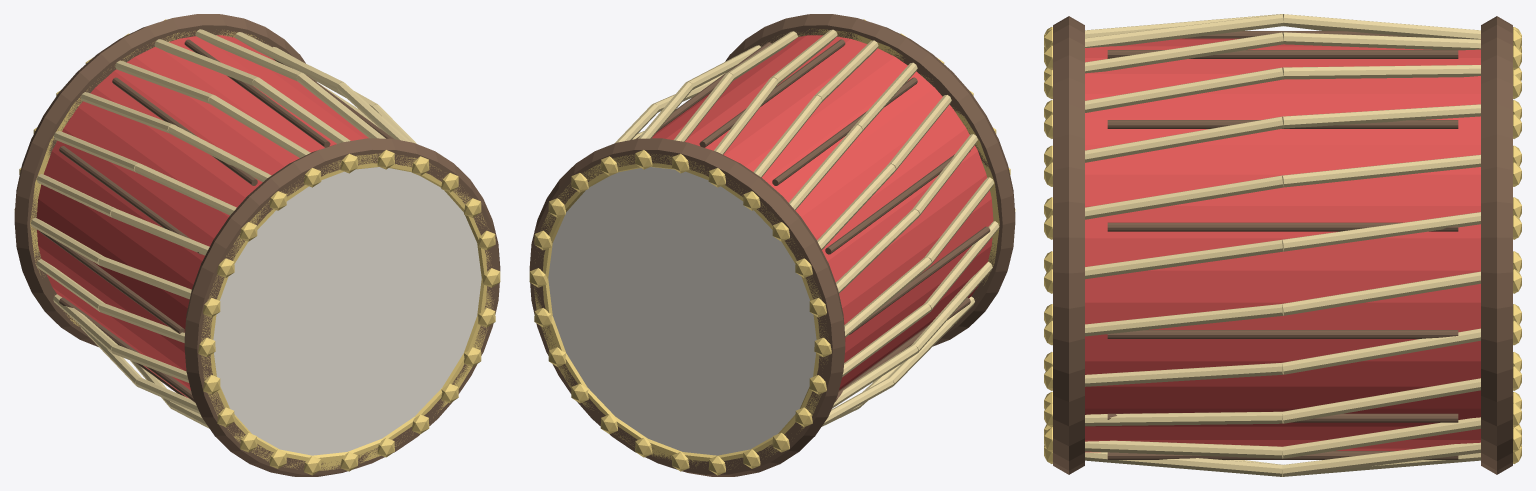
The model's file is noh_otsuzumi.glb.
3 renders of one model, left to right at view 1: azimuth 30°, elevation 25°; view 2: azimuth 150°, elevation 25°; view 3: azimuth 270°, elevation 25°, orthographic. The views are drawn at different scales.
Parts seen in each view (by area): view 1: Tsuzumi hourglass multi-strand hand drum taut drum skin, Tsuzumi hourglass multi-strand hand drum hardwood shell, Tsuzumi hourglass multi-strand hand drum leather head rim, Tsuzumi hourglass multi-strand hand drum tightening rope_00. (×11), Tsuzumi hourglass multi-strand hand drum leather head rim.00, Tsuzumi hourglass multi-strand hand drum tightening rope_01. (×11), Tsuzumi lashing flange, Tsuzumi lashing flange.001, Tsuzumi hourglass multi-strand hand drum wood grain.006, Tsuzumi hourglass multi-strand hand drum wood grain.005, Tsuzumi hourglass multi-strand hand drum wood grain.003, Tsuzumi hourglass multi-strand hand drum wood grain.004 (+1 smaller); view 2: Tsuzumi hourglass multi-strand hand drum taut drum skin.001, Tsuzumi hourglass multi-strand hand drum hardwood shell, Tsuzumi hourglass multi-strand hand drum leather head rim.00, Tsuzumi hourglass multi-strand hand drum tightening rope_01. (×12), Tsuzumi hourglass multi-strand hand drum tightening rope_00. (×11), Tsuzumi hourglass multi-strand hand drum leather head rim, Tsuzumi lashing flange.001, Tsuzumi lashing flange, Tsuzumi hourglass multi-strand hand drum wood grain.005, Tsuzumi hourglass multi-strand hand drum wood grain.003, Tsuzumi hourglass multi-strand hand drum wood grain.006, Tsuzumi hourglass multi-strand hand drum wood grain.004 (+2 smaller); view 3: Tsuzumi hourglass multi-strand hand drum hardwood shell, Tsuzumi hourglass multi-strand hand drum tightening rope_01. (×11), Tsuzumi hourglass multi-strand hand drum tightening rope_00. (×11), Tsuzumi hourglass multi-strand hand drum leather head rim, Tsuzumi hourglass multi-strand hand drum leather head rim.00, Tsuzumi hourglass multi-strand hand drum wood grain, Tsuzumi hourglass multi-strand hand drum wood grain.001, Tsuzumi hourglass multi-strand hand drum tightening rope_01, Tsuzumi hourglass multi-strand hand drum tightening rope_00, Tsuzumi hourglass multi-strand hand drum wood grain.003, Tsuzumi hourglass multi-strand hand drum wood grain.002, Tsuzumi hourglass multi-strand hand drum wood grain.011 (+2 smaller).
Boxes of the visible parts, bbox=[...] form: Tsuzumi hourglass multi-strand hand drum taut drum skin: bbox=[213, 167, 481, 455]; Tsuzumi hourglass multi-strand hand drum hardwood shell: bbox=[36, 35, 368, 398]; Tsuzumi hourglass multi-strand hand drum leather head rim: bbox=[184, 138, 500, 476]; Tsuzumi hourglass multi-strand hand drum tightening rope_00. (×11): bbox=[98, 73, 409, 413]; Tsuzumi hourglass multi-strand hand drum leather head rim.00: bbox=[14, 14, 316, 346]; Tsuzumi hourglass multi-strand hand drum tightening rope_01. (×11): bbox=[30, 29, 343, 385]; Tsuzumi lashing flange: bbox=[201, 153, 494, 470]; Tsuzumi lashing flange.001: bbox=[30, 30, 268, 326]; Tsuzumi hourglass multi-strand hand drum wood grain.006: bbox=[39, 231, 184, 333]; Tsuzumi hourglass multi-strand hand drum wood grain.005: bbox=[59, 146, 201, 254]; Tsuzumi hourglass multi-strand hand drum wood grain.003: bbox=[184, 39, 330, 147]; Tsuzumi hourglass multi-strand hand drum wood grain.004: bbox=[112, 77, 257, 185]; Tsuzumi hourglass multi-strand hand drum taut drum skin.001: bbox=[548, 167, 816, 455]; Tsuzumi hourglass multi-strand hand drum hardwood shell: bbox=[652, 35, 993, 390]; Tsuzumi hourglass multi-strand hand drum leather head rim.00: bbox=[529, 138, 845, 476]; Tsuzumi hourglass multi-strand hand drum tightening rope_01. (×12): bbox=[615, 73, 931, 426]; Tsuzumi hourglass multi-strand hand drum tightening rope_00. (×11): bbox=[686, 29, 999, 385]; Tsuzumi hourglass multi-strand hand drum leather head rim: bbox=[725, 14, 1015, 346]; Tsuzumi lashing flange.001: bbox=[534, 153, 828, 469]; Tsuzumi lashing flange: bbox=[761, 28, 999, 323]; Tsuzumi hourglass multi-strand hand drum wood grain.005: bbox=[825, 150, 970, 254]; Tsuzumi hourglass multi-strand hand drum wood grain.003: bbox=[699, 39, 845, 147]; Tsuzumi hourglass multi-strand hand drum wood grain.006: bbox=[849, 226, 990, 334]; Tsuzumi hourglass multi-strand hand drum wood grain.004: bbox=[772, 77, 917, 185]; Tsuzumi hourglass multi-strand hand drum hardwood shell: bbox=[1085, 38, 1480, 452]; Tsuzumi hourglass multi-strand hand drum tightening rope_01. (×11): bbox=[1282, 14, 1480, 476]; Tsuzumi hourglass multi-strand hand drum tightening rope_00. (×11): bbox=[1085, 14, 1283, 476]; Tsuzumi hourglass multi-strand hand drum leather head rim: bbox=[1053, 16, 1084, 474]; Tsuzumi hourglass multi-strand hand drum leather head rim.00: bbox=[1481, 16, 1512, 474]; Tsuzumi hourglass multi-strand hand drum wood grain: bbox=[1107, 330, 1458, 338]; Tsuzumi hourglass multi-strand hand drum wood grain.001: bbox=[1107, 222, 1458, 231]; Tsuzumi hourglass multi-strand hand drum tightening rope_01: bbox=[1282, 271, 1480, 315]; Tsuzumi hourglass multi-strand hand drum tightening rope_00: bbox=[1085, 304, 1283, 336]; Tsuzumi hourglass multi-strand hand drum wood grain.003: bbox=[1107, 50, 1458, 58]; Tsuzumi hourglass multi-strand hand drum wood grain.002: bbox=[1107, 120, 1458, 128]; Tsuzumi hourglass multi-strand hand drum wood grain.011: bbox=[1107, 413, 1458, 422].
Bounding box in the file's own units: 1.89 × 1.91 × 1.95.
